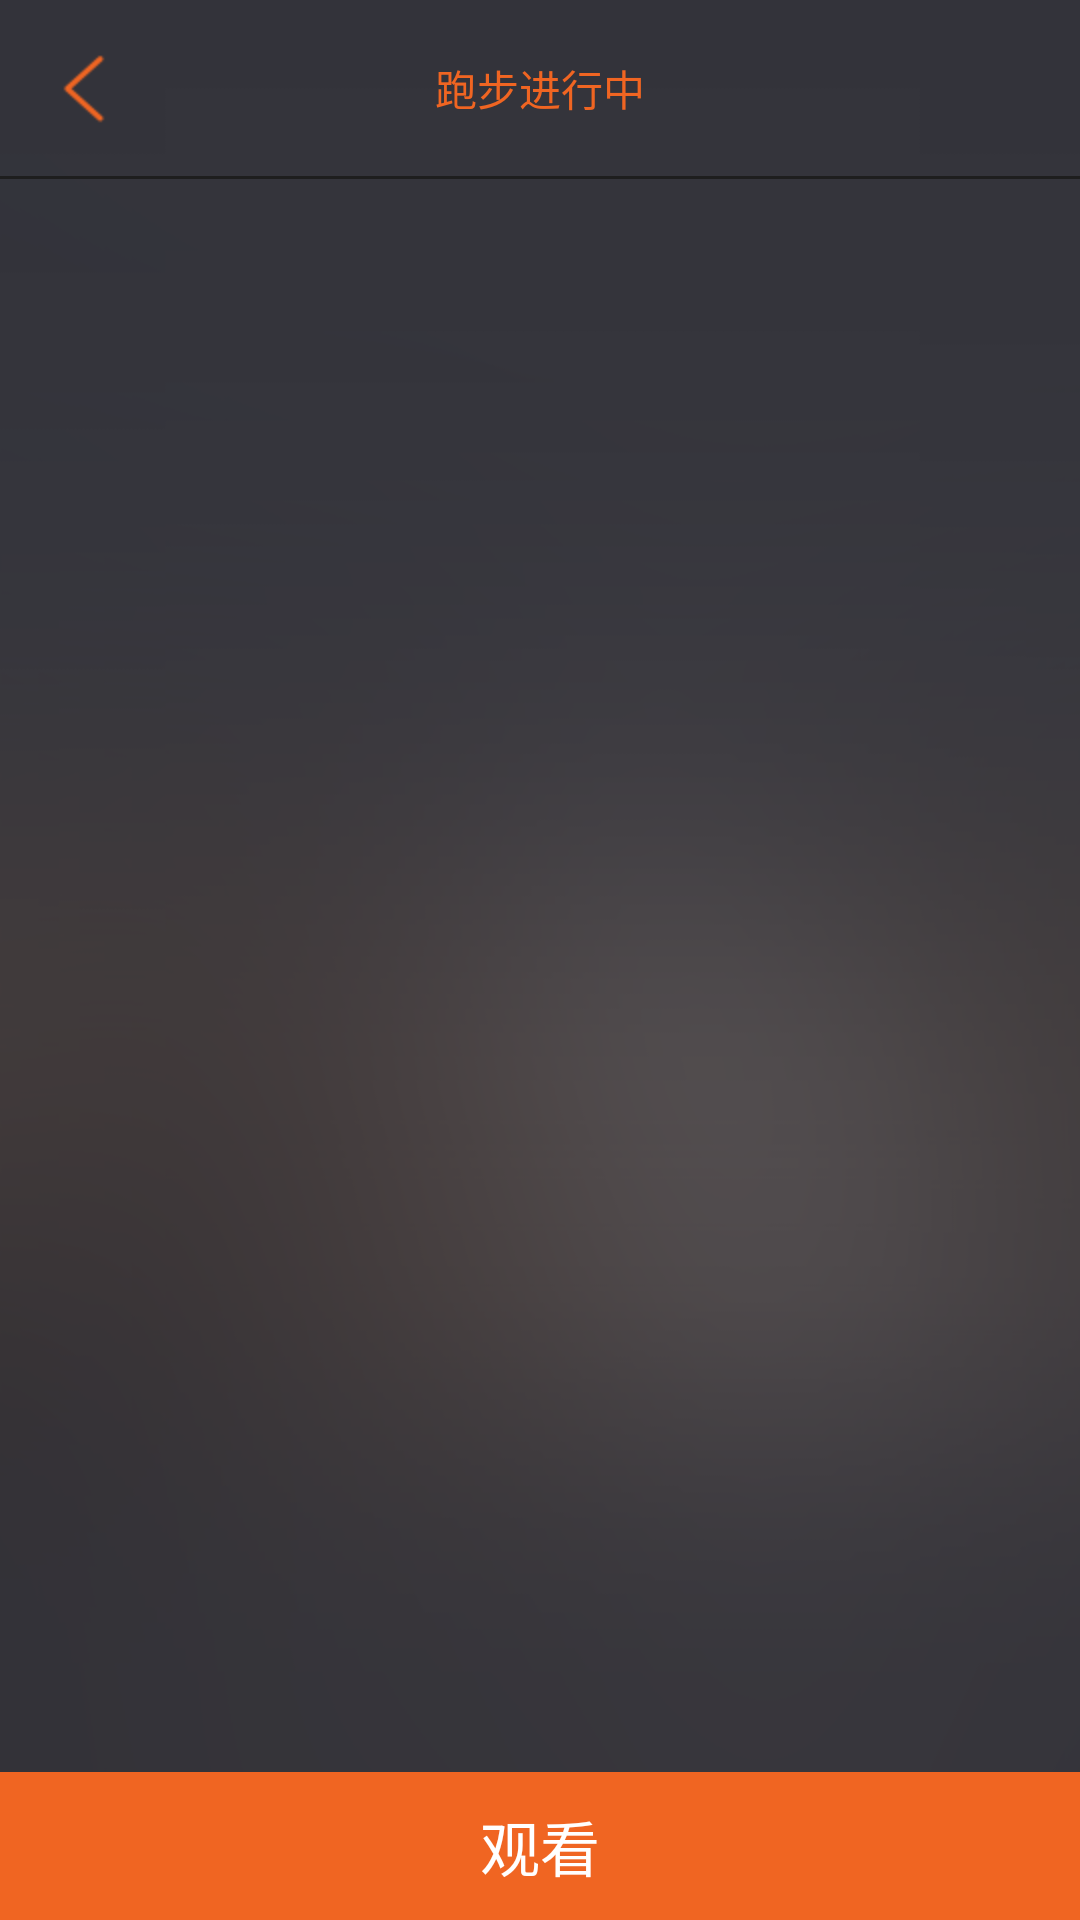

Screen size 1080w x 1920h. Icon name, then its center in pixels as [x,y]:
title back: [83,88]
